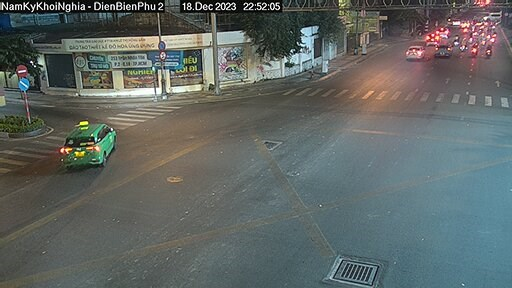car: (61, 120, 119, 174), (402, 40, 427, 62), (433, 43, 456, 59)
